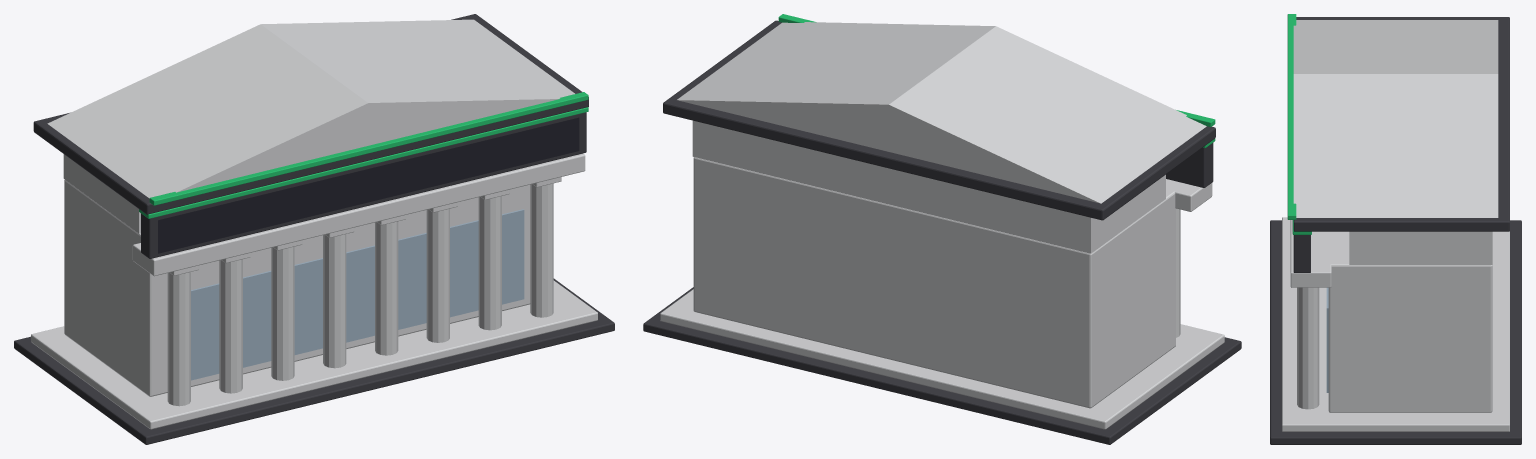
Rendered from exchange.glb.
3 views of the same model, side by side, from view 1: azimuth 30°, elevation 25°; view 2: azimuth 150°, elevation 25°; view 3: azimuth 270°, elevation 25° (orthographic). The views are drawn at different scales.
Visible parts, largest first — view 1: exchange, screen_ticker; view 2: exchange; view 3: exchange.
Boxes of the visible parts, x1,y1,x2,y2 form: exchange: [14, 14, 614, 444]; screen_ticker: [158, 117, 579, 253]; exchange: [643, 14, 1241, 444]; exchange: [1270, 14, 1521, 444].
Bounding box in the file's own units: 17.6 × 9.9 × 8.6.
